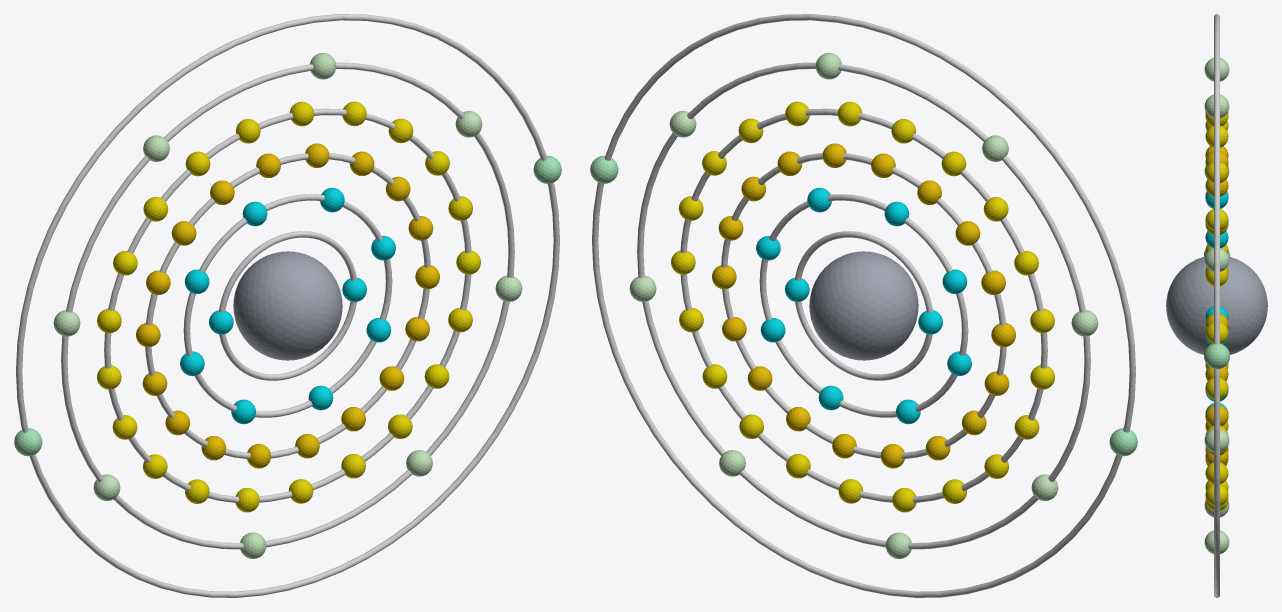
3 renders of one model, left to right at view 1: azimuth 30°, elevation 25°; view 2: azimuth 150°, elevation 25°; view 3: azimuth 270°, elevation 25°, orthographic. The views are drawn at different scales.
Parts seen in each view (by area): view 1: world; view 2: world; view 3: world.
Boxes of the visible parts, bbox=[...] form: world: bbox=[14, 14, 561, 597]; world: bbox=[590, 14, 1137, 597]; world: bbox=[1166, 14, 1267, 597].
Size of the model in its own units: 2.53 by 2.53 by 0.44.
